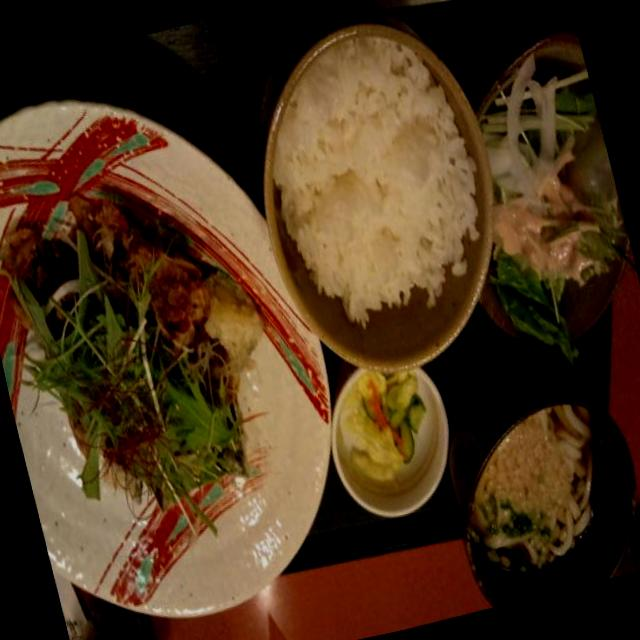Rice: (238, 15, 502, 333)
